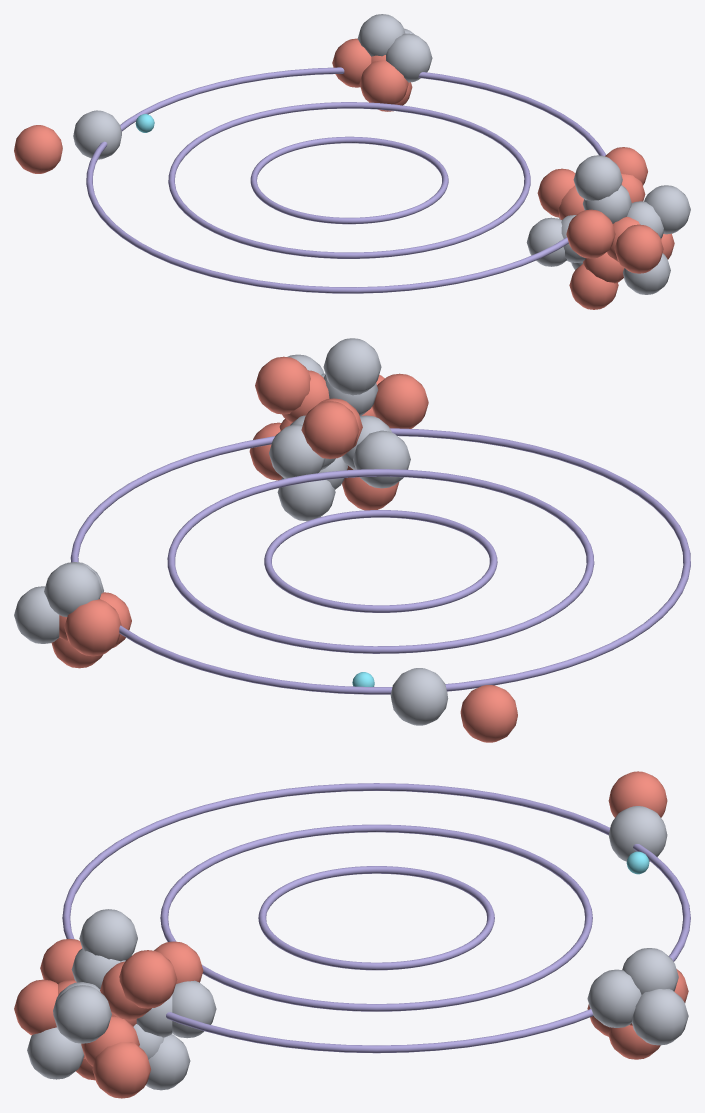
File: atom_kit.glb
3 views of the same model, one above another, from view 1: azimuth 30°, elevation 25°; view 2: azimuth 150°, elevation 25°; view 3: azimuth 270°, elevation 25° (orthographic). The views are drawn at different scales.
Visible parts, largest first — view 1: nucleus_large, shell_3, nucleus_small, shell_2, shell_1, proton, neutron; view 2: nucleus_large, shell_3, nucleus_small, shell_2, shell_1, neutron, proton; view 3: nucleus_large, shell_3, nucleus_small, shell_2, shell_1, neutron, proton.
Part boxes in pixels (x1,y1,x2,y2): nucleus_large: [526, 147, 690, 309]; shell_3: [86, 67, 605, 293]; nucleus_small: [332, 14, 432, 111]; shell_2: [168, 102, 530, 258]; shell_1: [250, 136, 448, 224]; proton: [14, 125, 62, 173]; neutron: [73, 110, 121, 159]; nucleus_large: [249, 338, 428, 521]; shell_3: [70, 428, 690, 694]; nucleus_small: [14, 562, 131, 668]; shell_2: [167, 469, 594, 653]; shell_1: [264, 510, 497, 612]; neutron: [390, 668, 448, 725]; proton: [460, 685, 517, 742]; nucleus_large: [14, 909, 216, 1098]; shell_3: [62, 783, 690, 1053]; nucleus_small: [587, 948, 688, 1059]; shell_2: [160, 824, 592, 1011]; shell_1: [258, 866, 494, 970]; neutron: [608, 806, 667, 861]; proton: [608, 771, 667, 817].
Size of the model in its own units: 1.92 by 0.5794 by 2.07.
